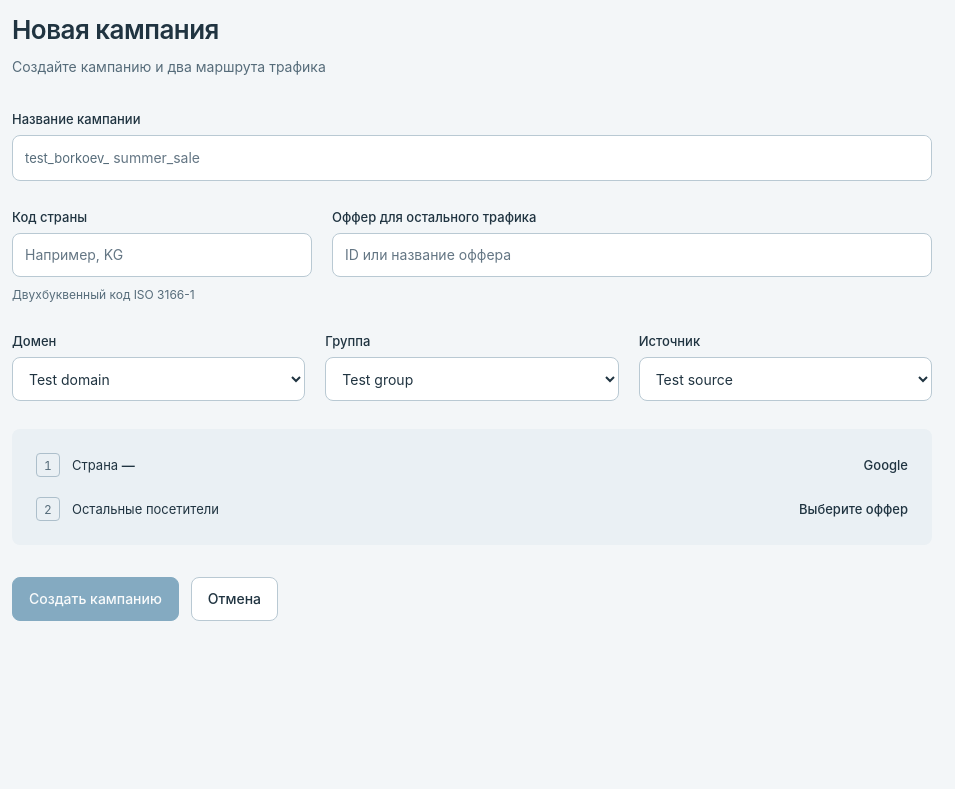
creation recovery › reuses the same idempotency key after a lost response
Later steps or results of the test are not shown.
Type "demo" into the field labelled "Название кампании" at (520, 158), box [109,136,931,180]
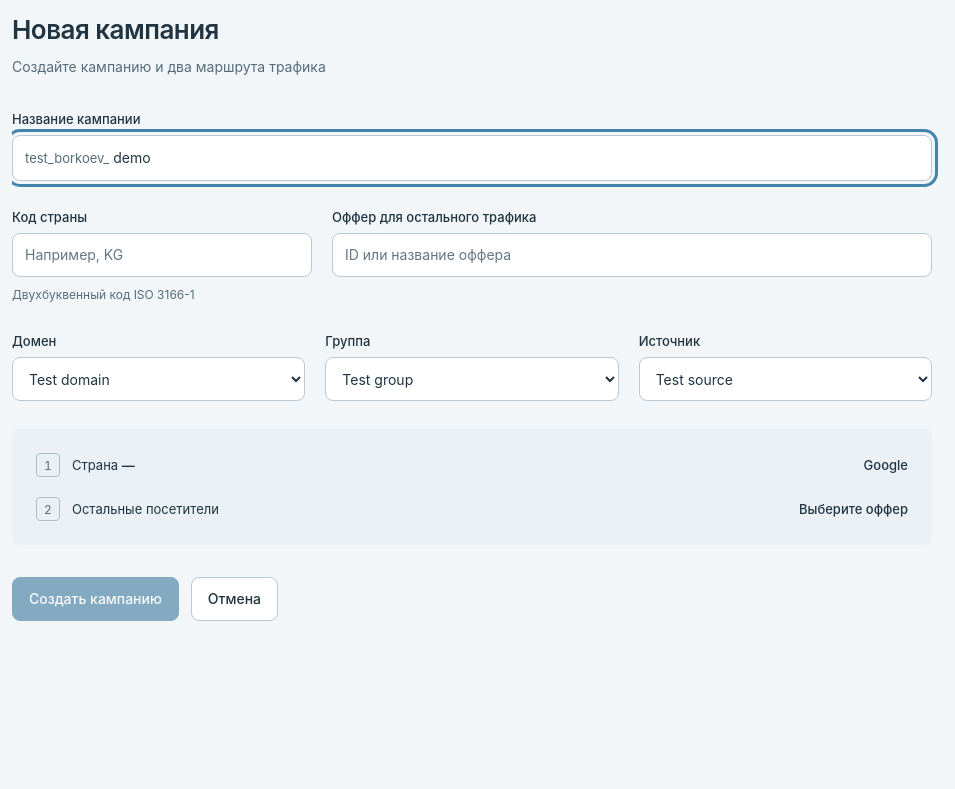
Type "KG" into the field labelled "Код страны" at (162, 255), box [12,233,312,277]
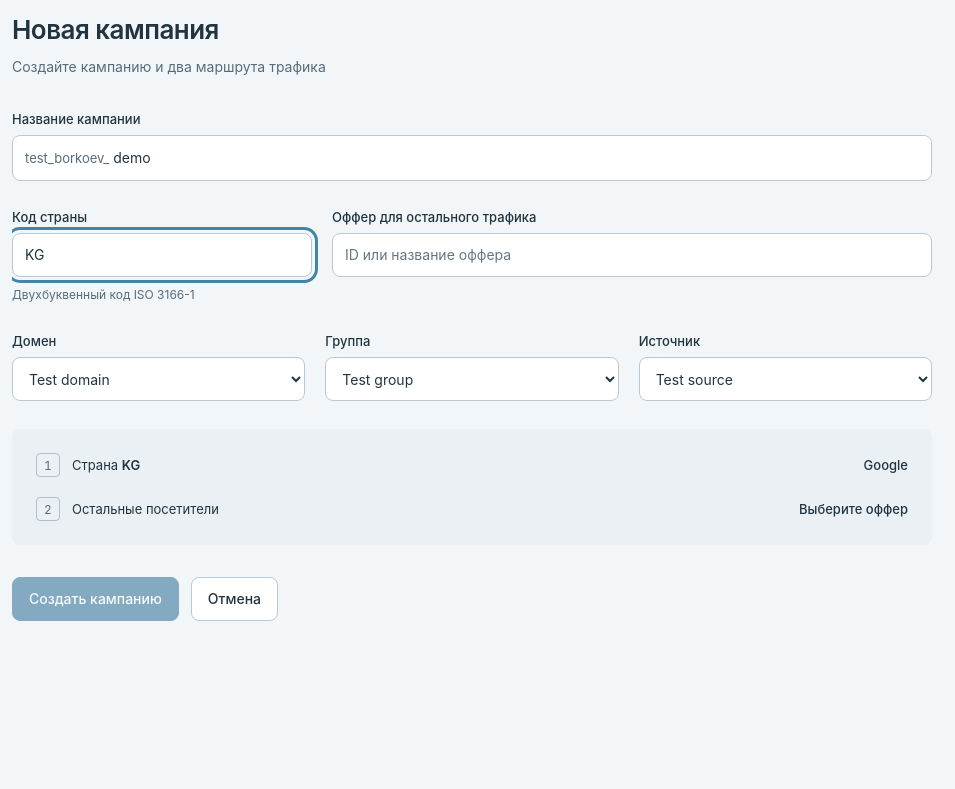
Type "11" into the dropdown labelled "Оффер для остального трафика" at (632, 255), box [332,233,932,277]
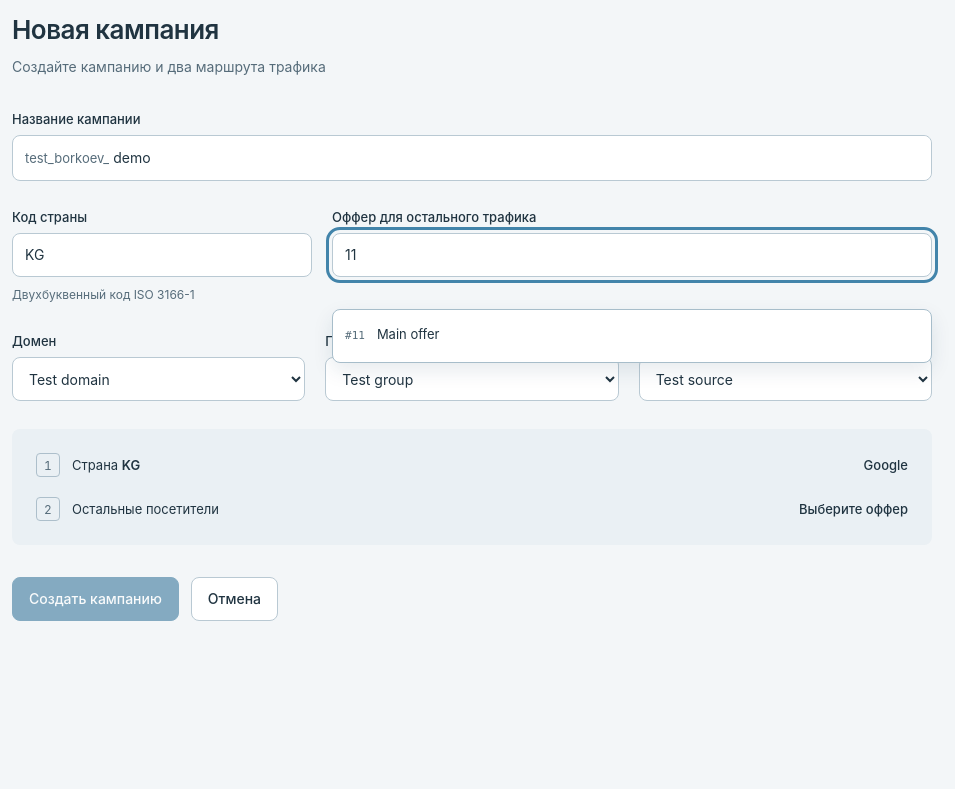
Click the option "#11 Main offer" at (392, 334), box [345,326,439,342]
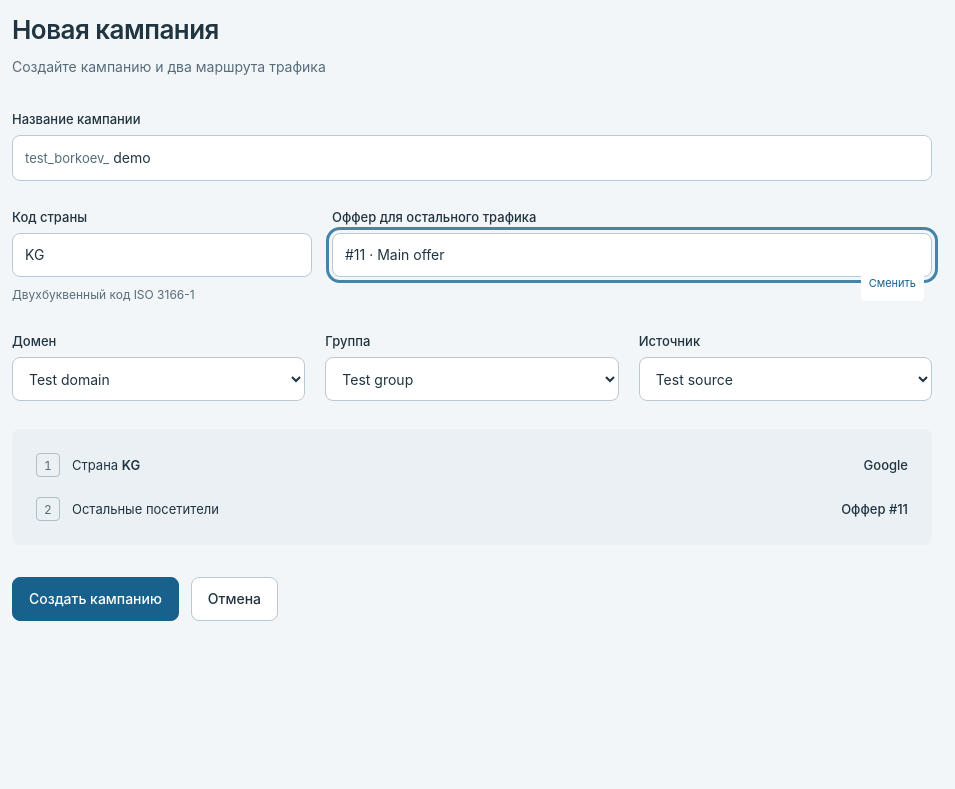
Click the button "Создать кампанию" at (95, 599), box [12,577,179,621]
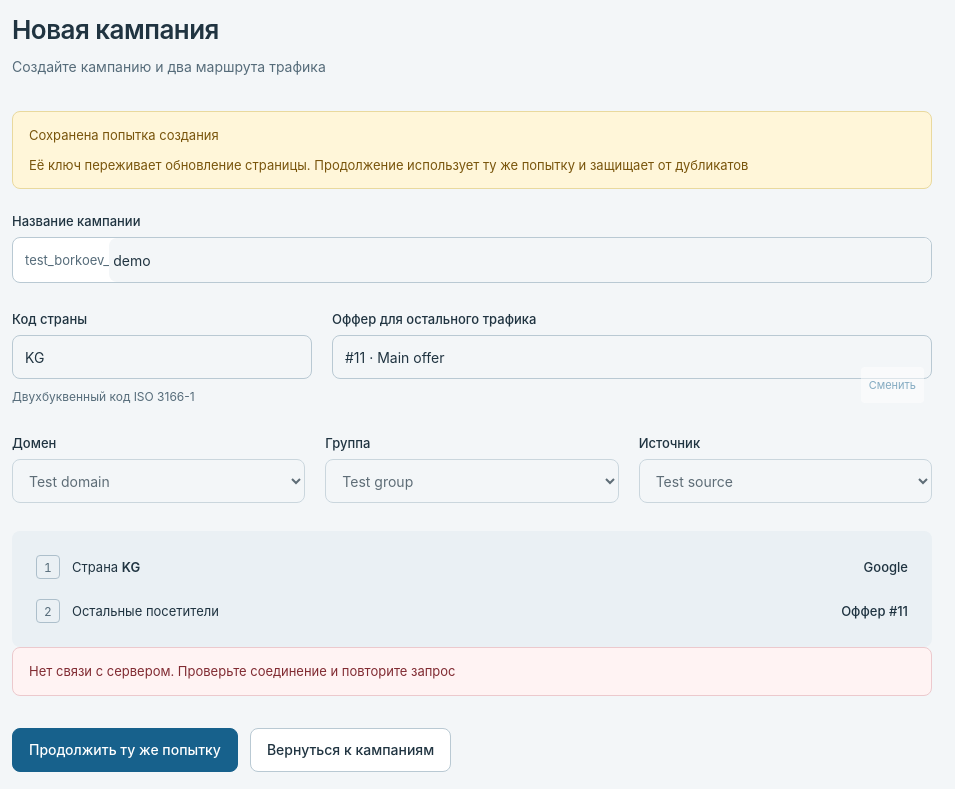
Expected: the button "Продолжить ту же попытку" is shown, [12,728,238,772]
